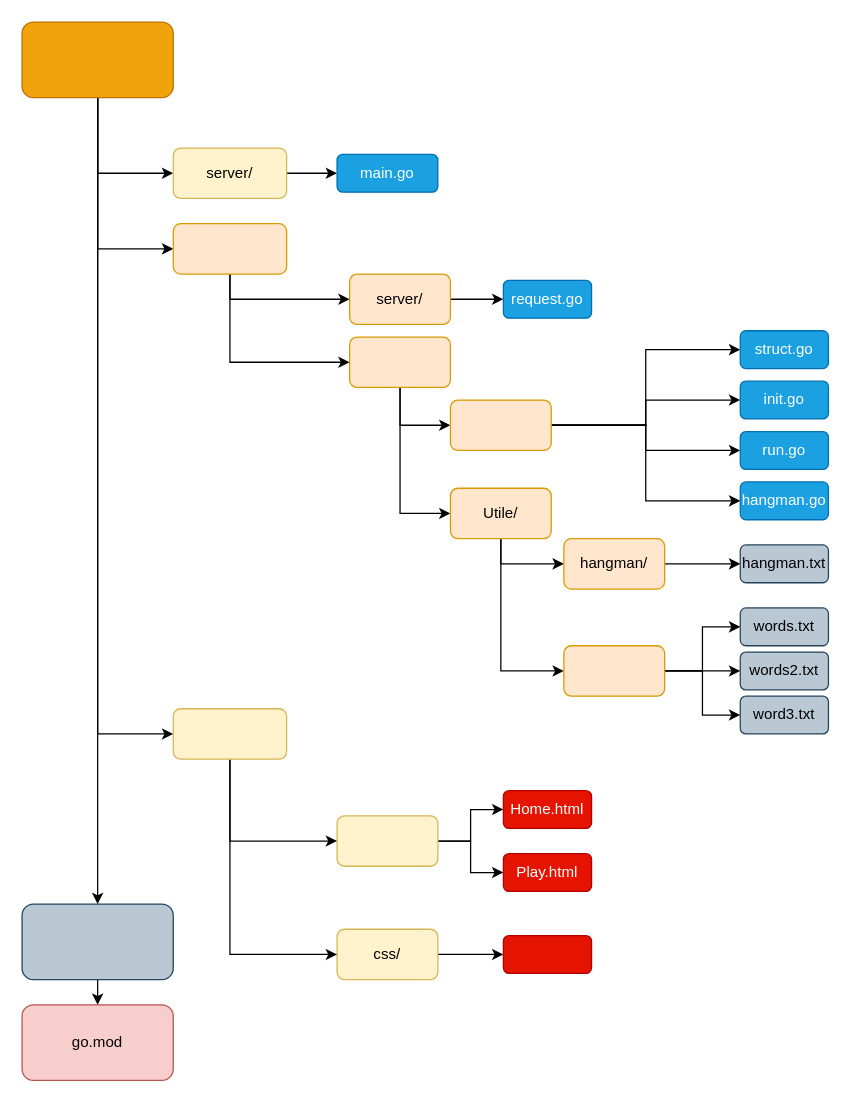
This 851x1103 diagram has some shape labels left out. Each missing label, with the centre of its shape:
back/: the point at 229,248
GAME/: the point at 500,424
hagnman-web/: the point at 97,59
hangman-classique/: the point at 399,361
README.md: the point at 97,941
style.css: the point at 547,953
templates/: the point at 387,840
web/: the point at 229,733
wordlist/: the point at 614,670
